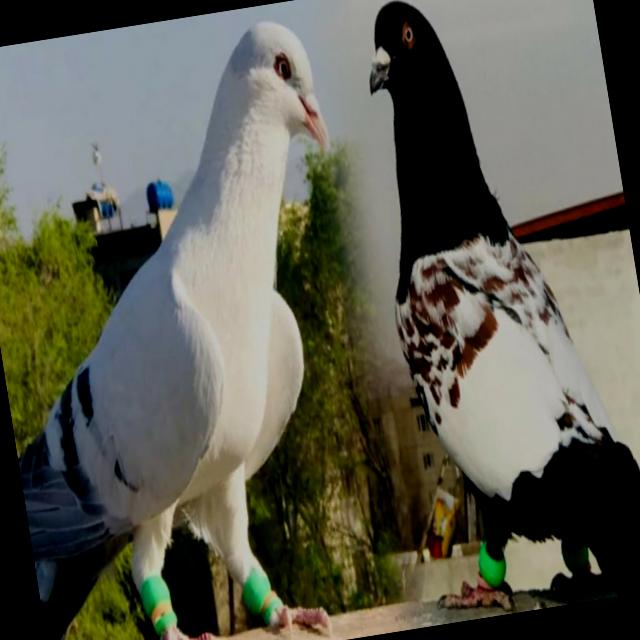bird: (0, 0, 409, 640), (341, 0, 640, 625)
